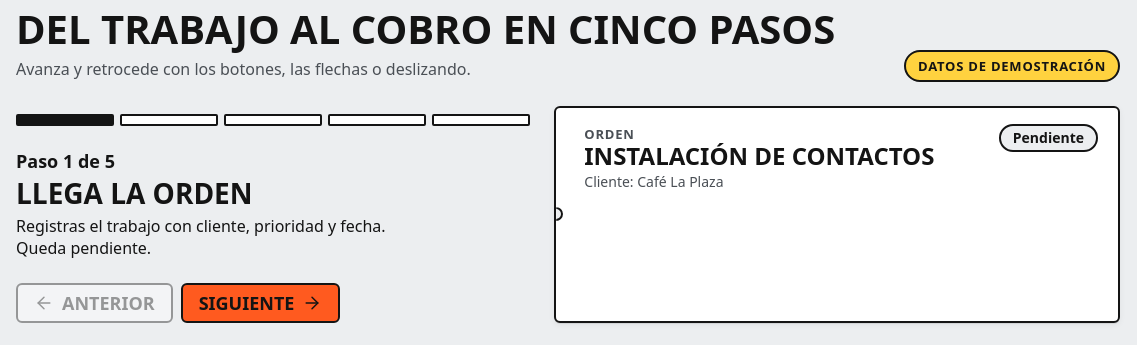
FlowDemo › Anterior regresa un paso
The image size is (1137, 345).
Click the button "Siguiente": (261, 303) x1=181 y1=283 x2=340 y2=323
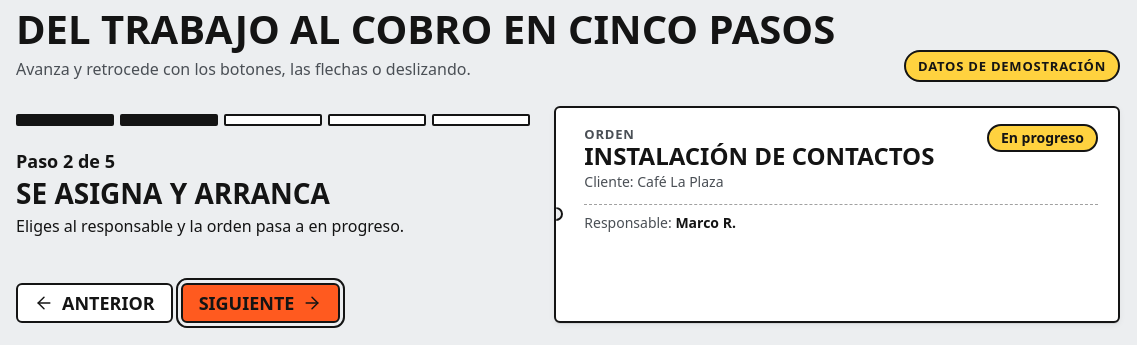
Click the button "Anterior": (94, 303) x1=16 y1=283 x2=173 y2=323
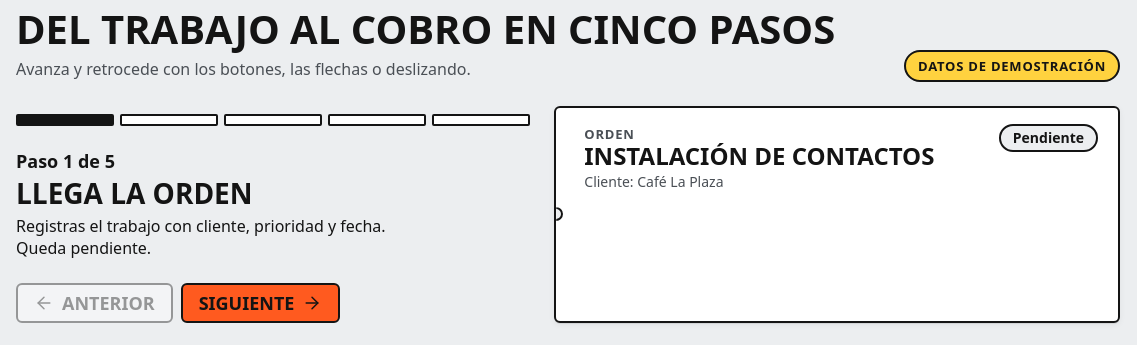
expect the text "Llega la orden" is shown: met, box x1=16 y1=174 x2=252 y2=212
